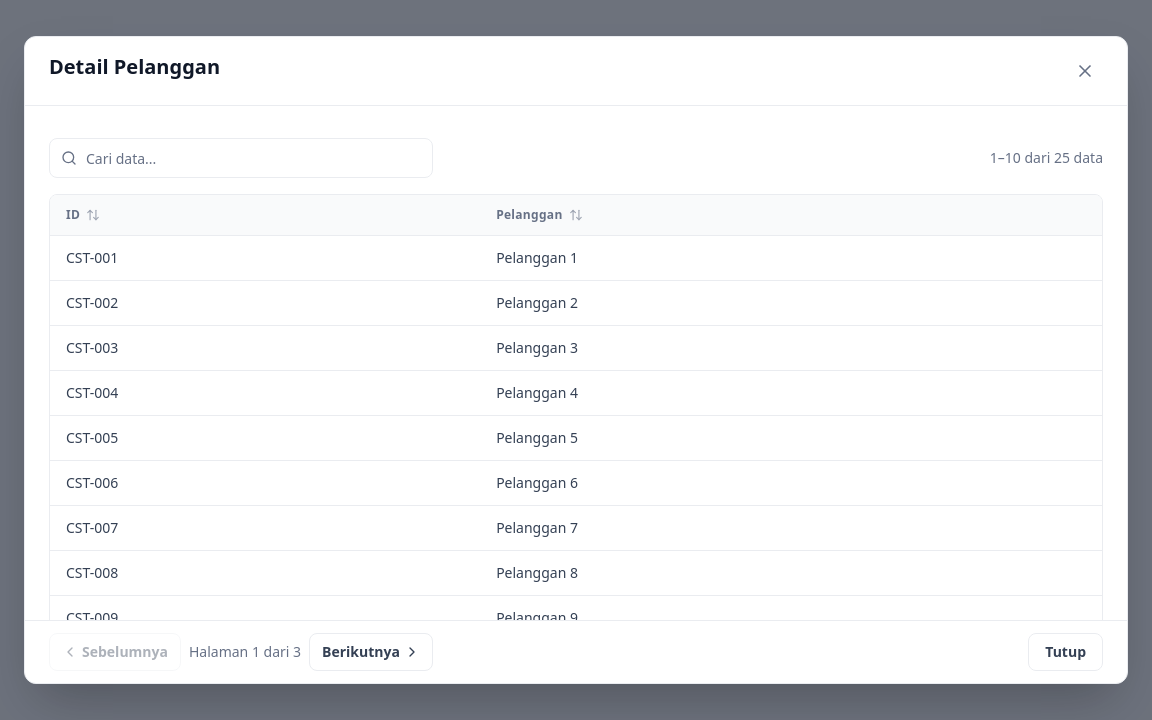
DetailTableModal pagination › sorts naturally and returns to the first page
Click the button with aria-label "Halaman berikutnya": point(371, 652) [309, 633, 433, 671]
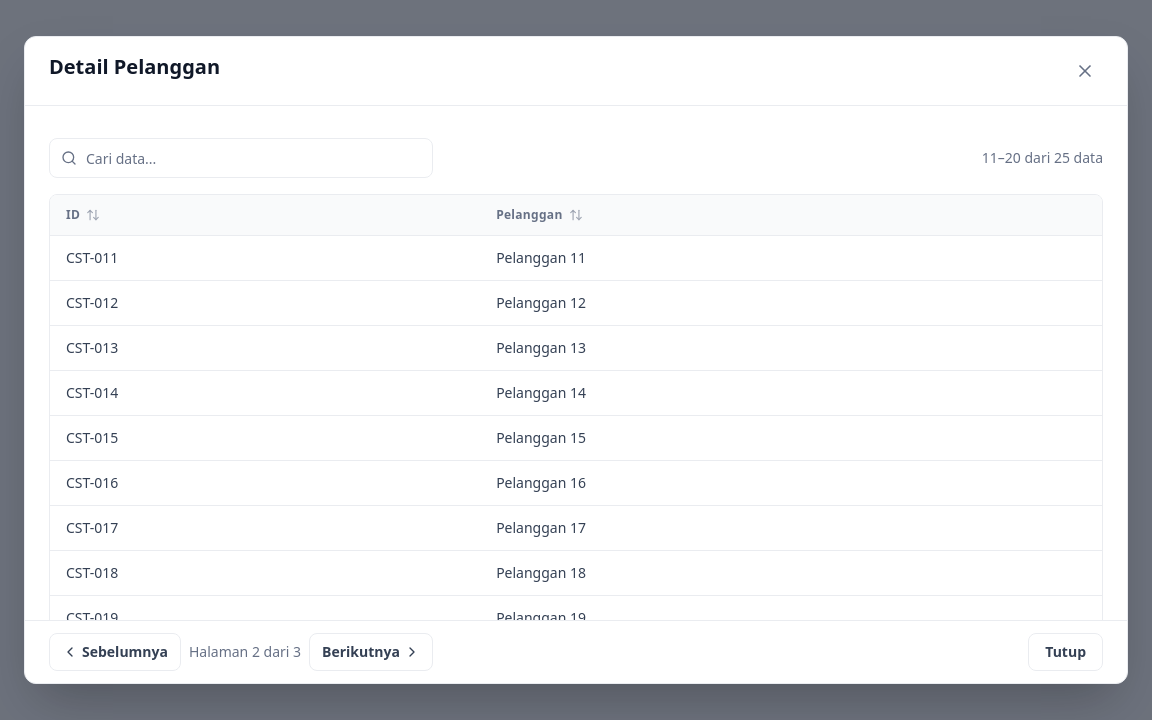
Click the button with aria-label "Urutkan berdasarkan Pelanggan": point(529, 214) [496, 207, 1086, 223]
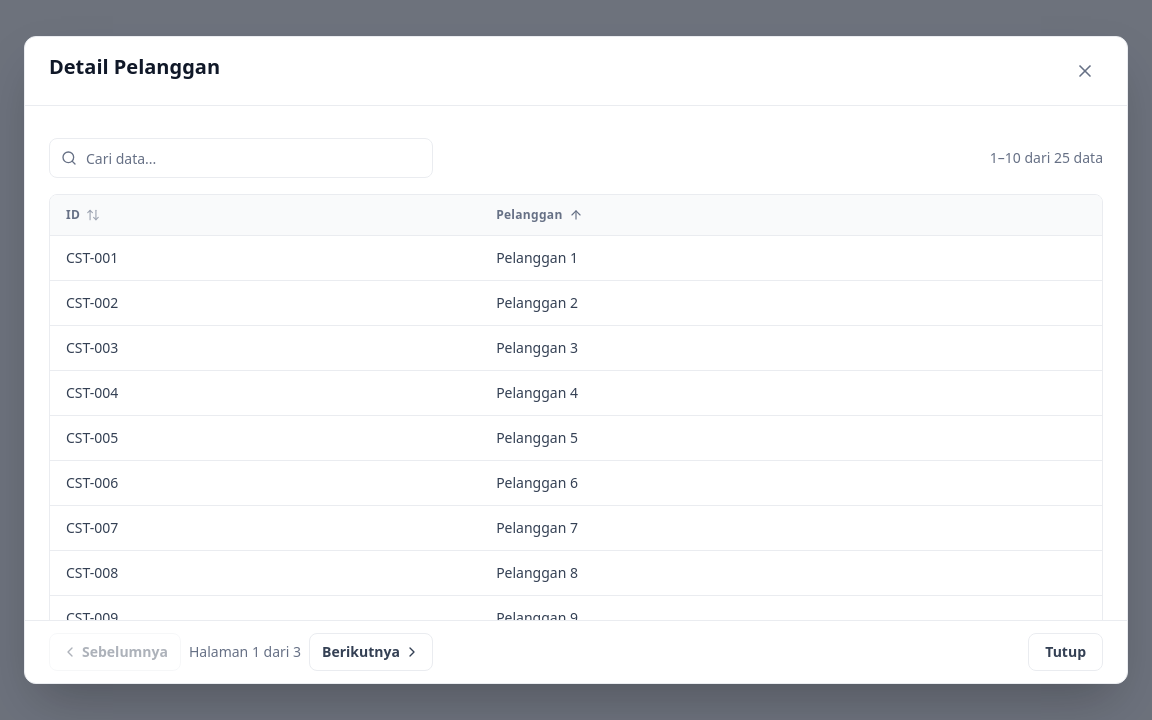
Click the button with aria-label "Urutkan berdasarkan Pelanggan": point(529, 214) [496, 207, 1086, 223]
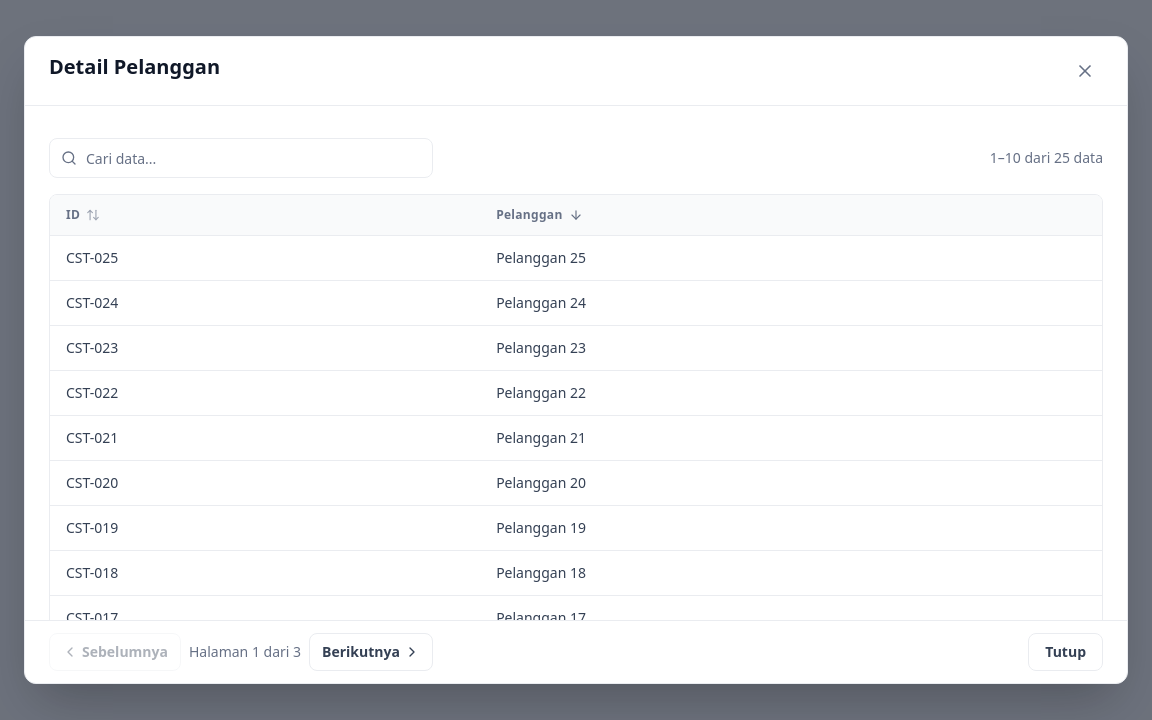
Now the text "Halaman 1 dari 3" is shown, box [189, 642, 301, 662]
Now the text "CST-025" is shown, box [66, 248, 118, 267]
Now the text "CST-001" is gone
